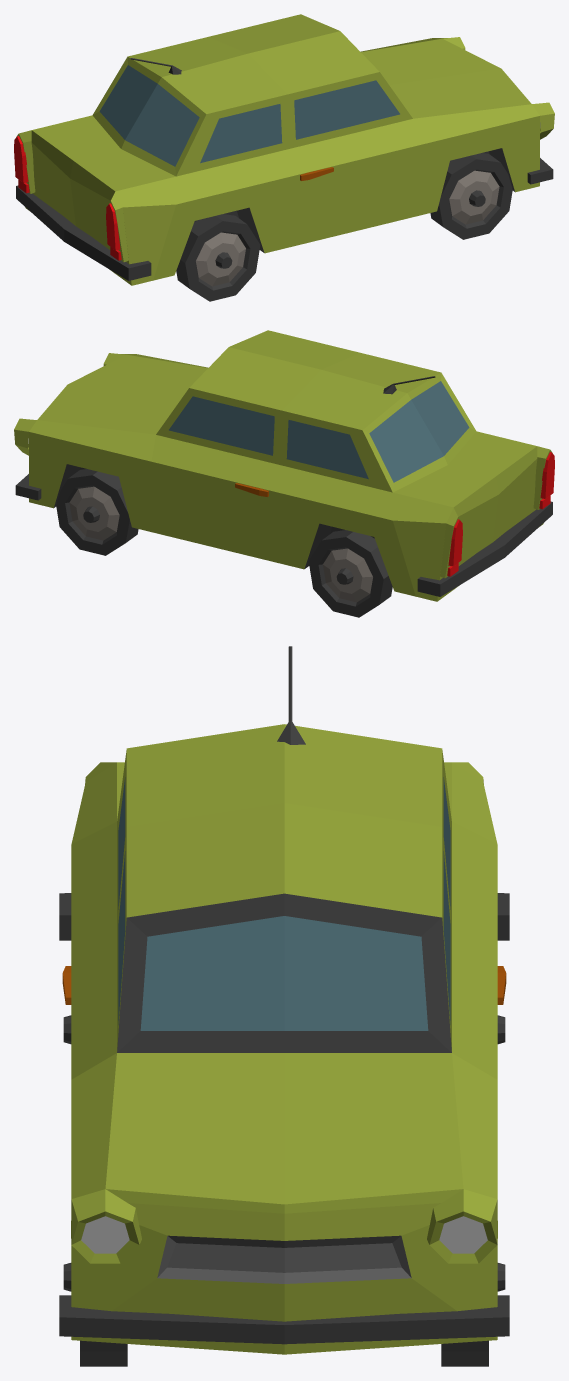
Rendered from car_01.fbx.
The picture shows the model from 3 angles, top to bottom: view 1: azimuth 30°, elevation 25°; view 2: azimuth 150°, elevation 25°; view 3: azimuth 270°, elevation 25°; orthographic projection. The views are drawn at different scales.
Visible parts, largest first — view 1: car_01, CarWheelRearRight_01, CarWheelFrontRight_01; view 2: car_01, CarWheelRearLeft_01, CarWheelFrontLeft_01; view 3: car_01, CarWheelFrontLeft_01, CarWheelFrontRight_01.
Part boxes in pixels (x1,y1,x2,y2): car_01: (14, 14, 554, 285); CarWheelRearRight_01: (176, 214, 260, 301); CarWheelFrontRight_01: (430, 153, 512, 239); car_01: (14, 330, 554, 601); CarWheelRearLeft_01: (308, 530, 392, 617); CarWheelFrontLeft_01: (56, 469, 138, 555); car_01: (59, 646, 509, 1354); CarWheelFrontLeft_01: (441, 1263, 505, 1366); CarWheelFrontRight_01: (63, 1263, 127, 1366).
Size of the model in its own units: 497 by 227 by 219.
